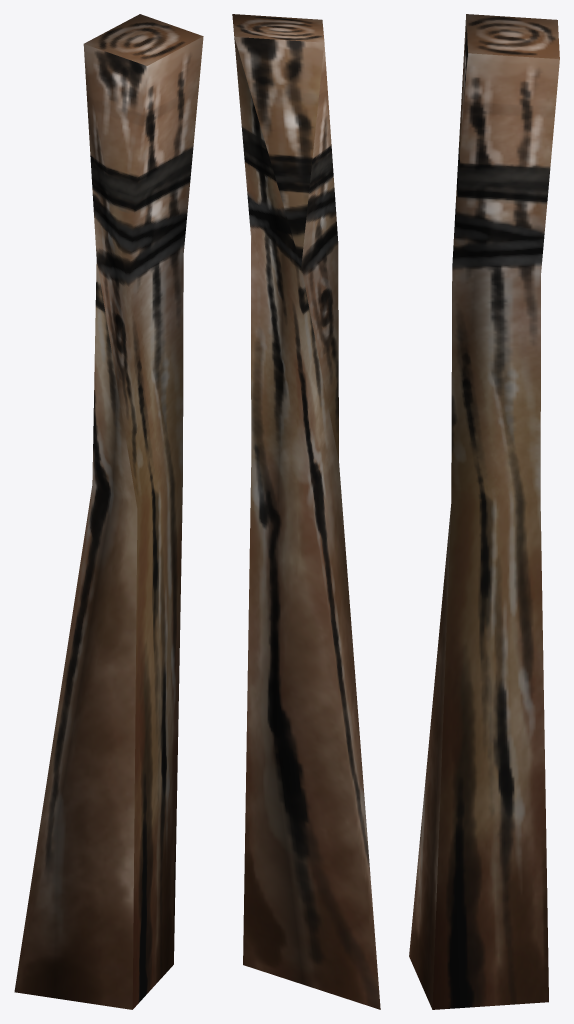
Rendered from PRP_WoodFenceA.FBX.
The picture shows the model from 3 angles, left to right: view 1: azimuth 30°, elevation 25°; view 2: azimuth 150°, elevation 25°; view 3: azimuth 330°, elevation 25°; orthographic projection. The views are drawn at different scales.
Visible parts, largest first — view 1: PRP_WoodFenceA; view 2: PRP_WoodFenceA; view 3: PRP_WoodFenceA.
Boxes of the visible parts, x1,y1,x2,y2 form: PRP_WoodFenceA: (14,14,203,1009); PRP_WoodFenceA: (232,14,380,1009); PRP_WoodFenceA: (409,14,559,1009).
Size of the model in its own units: 25.75 by 137 by 15.21.
